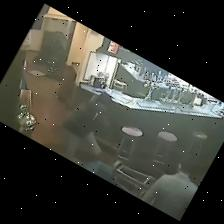person: (141, 156, 196, 220), (63, 93, 110, 158)
